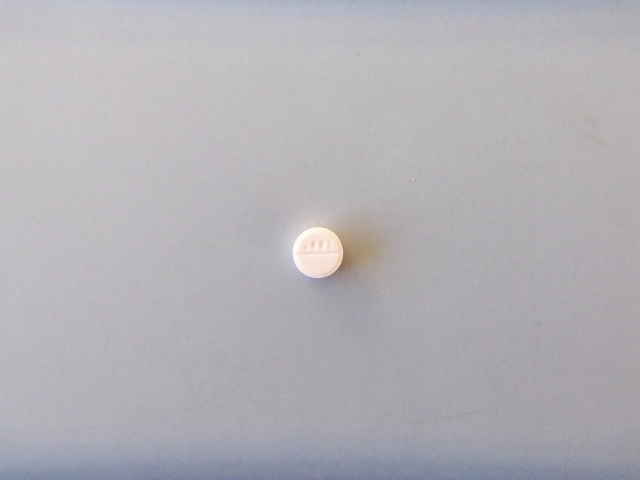|: (290, 249, 348, 263)
